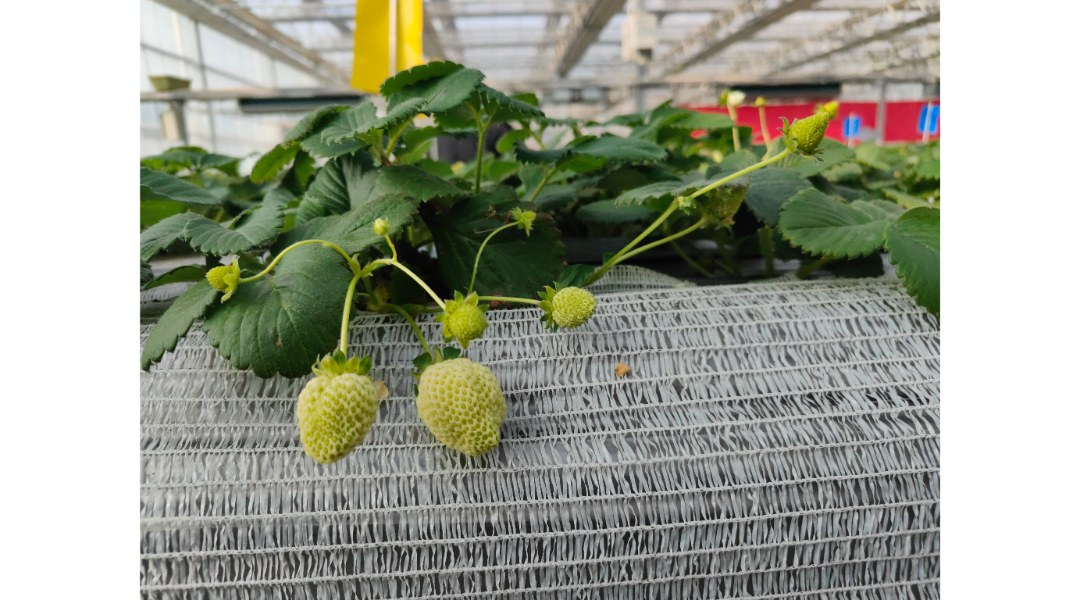berry: (283, 345, 386, 465), (407, 354, 516, 463), (531, 279, 600, 337), (438, 283, 492, 346), (775, 107, 831, 164), (205, 255, 247, 302), (373, 216, 394, 241)
strain: (711, 149, 782, 201), (463, 224, 510, 297), (390, 258, 445, 312), (334, 276, 362, 363), (620, 210, 673, 255), (261, 237, 353, 262), (491, 290, 545, 307)
